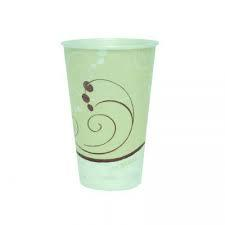Plastic cup: (51, 33, 180, 201)
